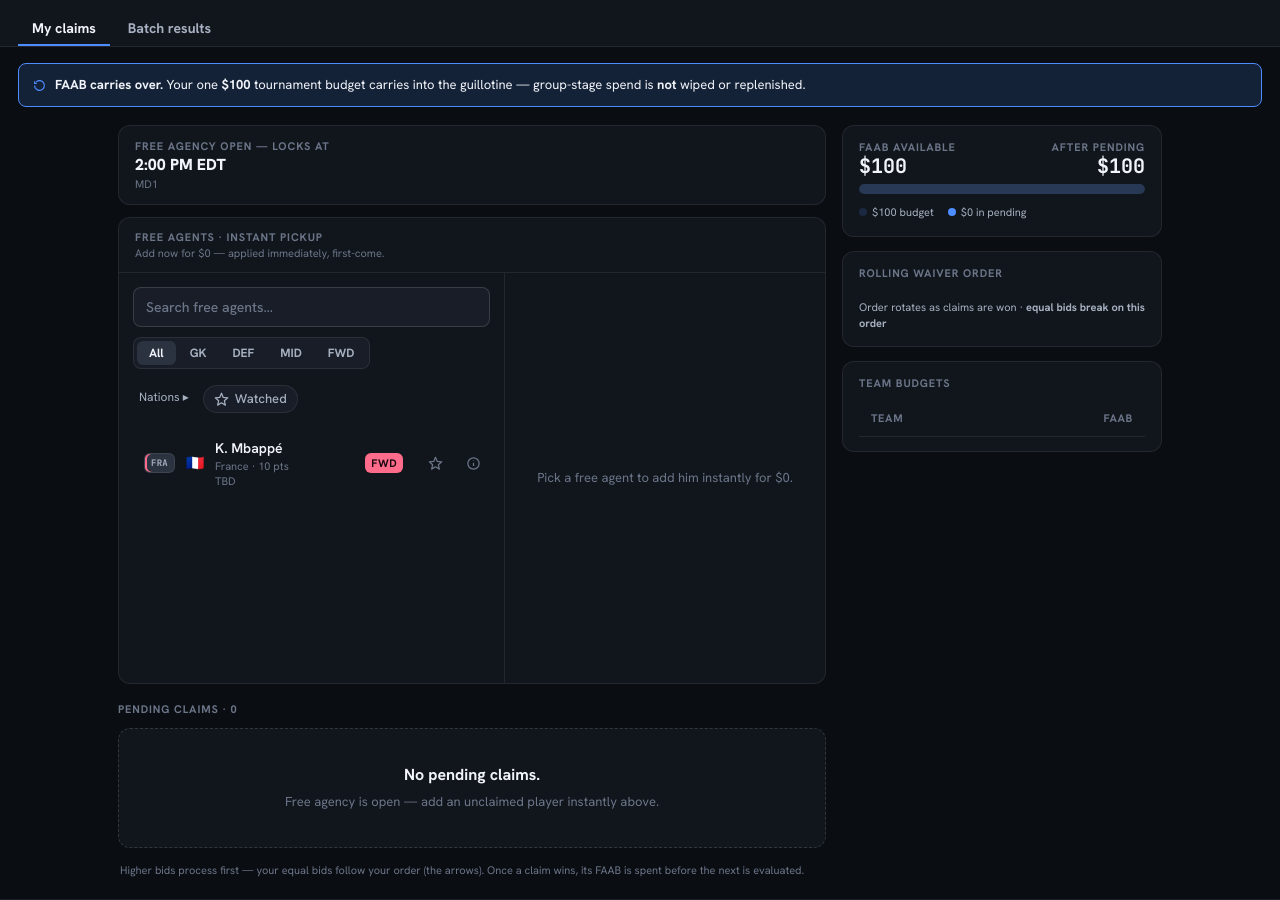
Waivers FA tab — playoff cap parity (the 2026-06-28 R32 409 incident) › playoff free-agency: Add is DISABLED until a drop is chosen (a no-drop grant can't be sent at cap)
The width and height of the screenshot is (1280, 900).
Click the button "FRA 🇫🇷 K. Mbappé France · 10 pts TBD FWD": (274, 463) [133,429,414,497]
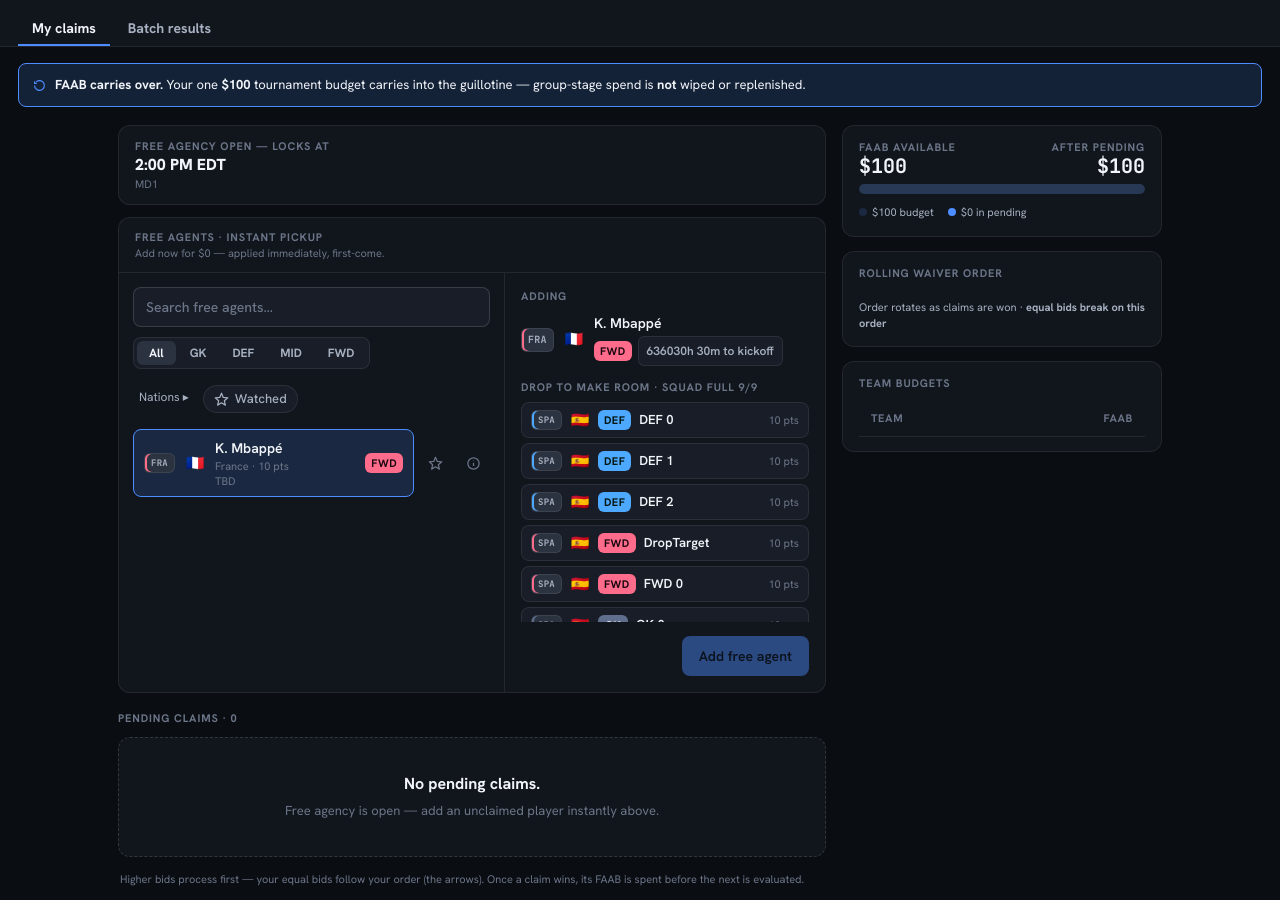
expect the button "Add free agent" is disabled: met, box [682,636,809,676]
Click the button "SPA 🇪🇸 FWD DropTarget 10 pts": (665, 543) [521,525,809,561]
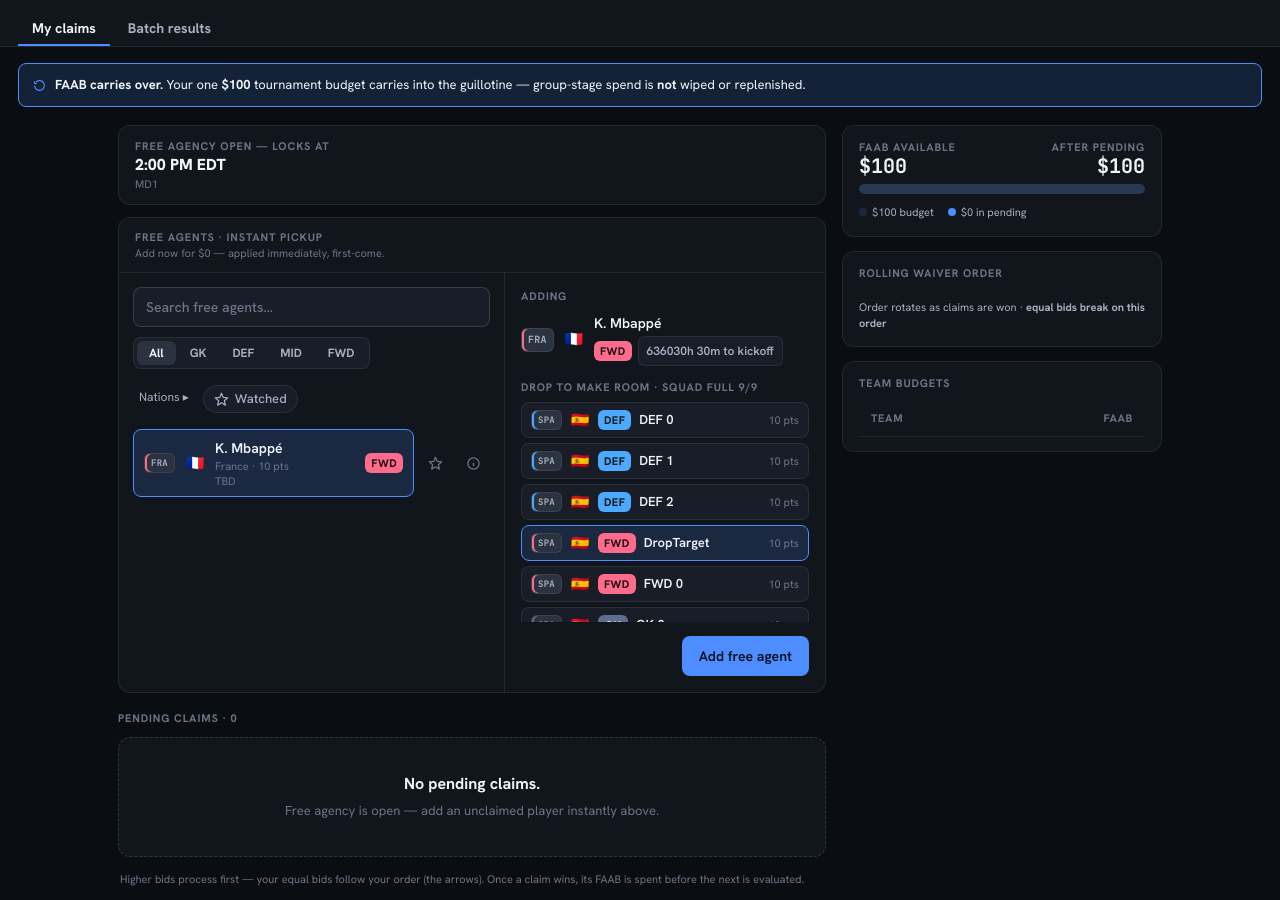
expect the button "Add free agent" is enabled: met, box [682,636,809,676]
